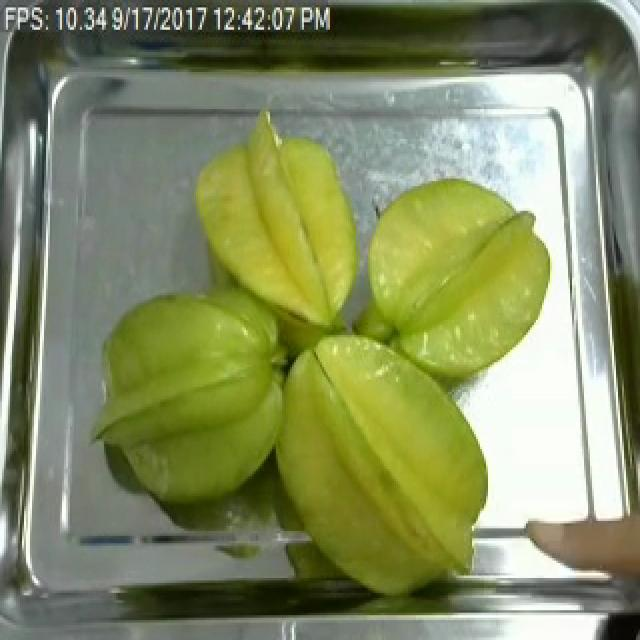fruit: (256, 322, 500, 606), (84, 283, 298, 523), (356, 169, 560, 394), (184, 102, 374, 337)
